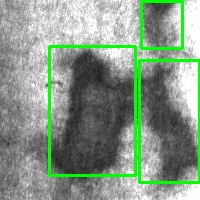patches: (49, 46, 135, 175), (139, 60, 199, 182), (141, 1, 182, 48)
